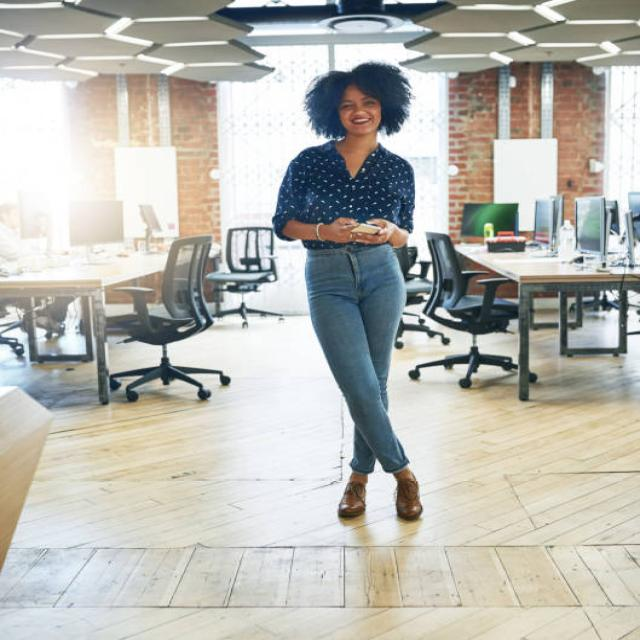Real human 2: (256, 34, 473, 578)
